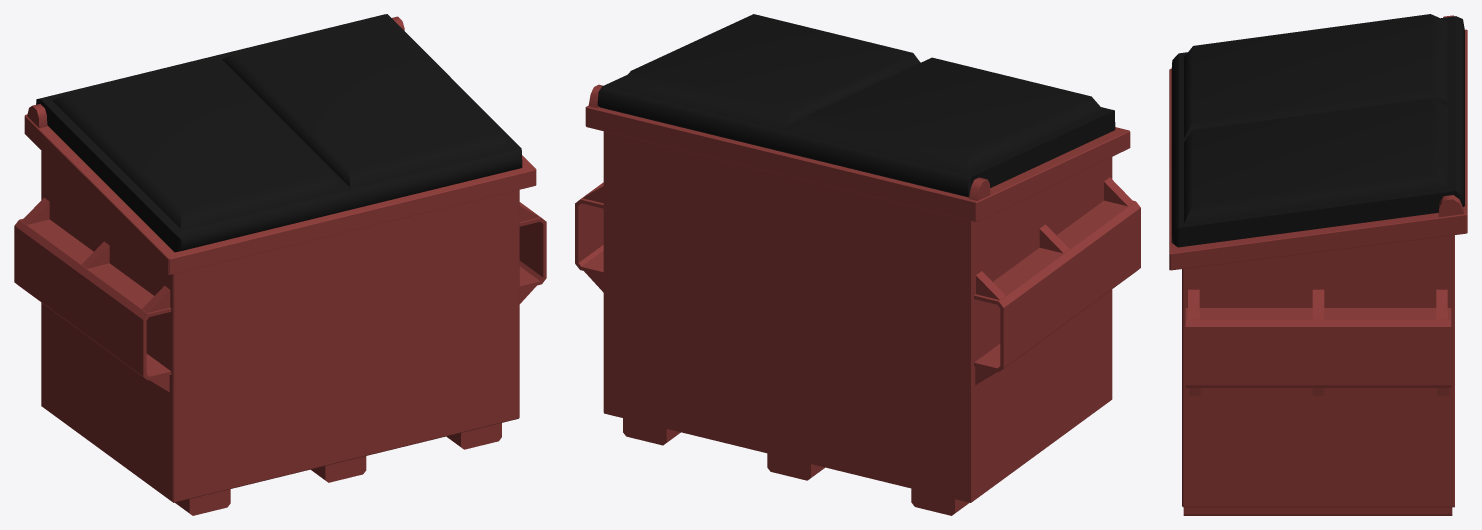
Rendered from Dumpster_Red_01.fbx.
3 renders of one model, left to right at view 1: azimuth 30°, elevation 25°; view 2: azimuth 150°, elevation 25°; view 3: azimuth 270°, elevation 25°, orthographic. The views are drawn at different scales.
Parts seen in each view (by area): view 1: polySurface16; view 2: polySurface16; view 3: polySurface16.
Part boxes in pixels (box(x1,y1,x2,y2)): polySurface16: box(14, 14, 546, 515); polySurface16: box(575, 14, 1140, 515); polySurface16: box(1169, 14, 1467, 515).
Size of the model in its own units: 168 by 133 by 104.
